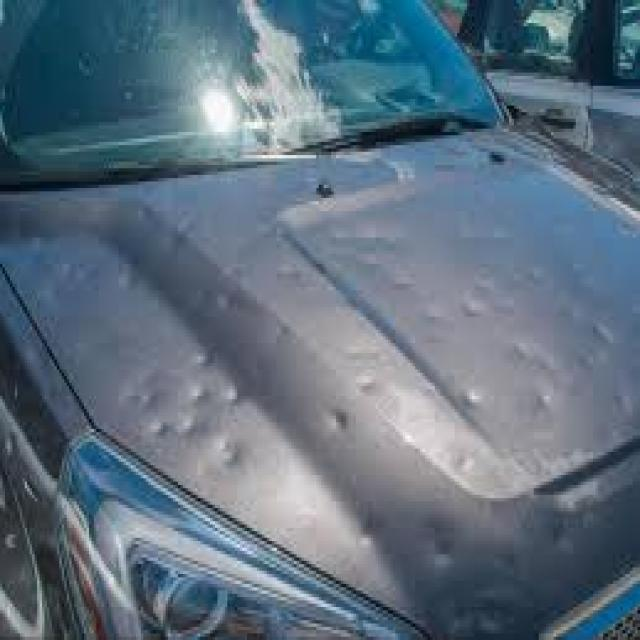dent-or-scratch: (130, 375, 258, 465), (458, 264, 516, 320), (412, 506, 464, 566), (582, 308, 620, 370), (210, 259, 244, 315), (322, 400, 356, 440), (466, 382, 484, 423)
